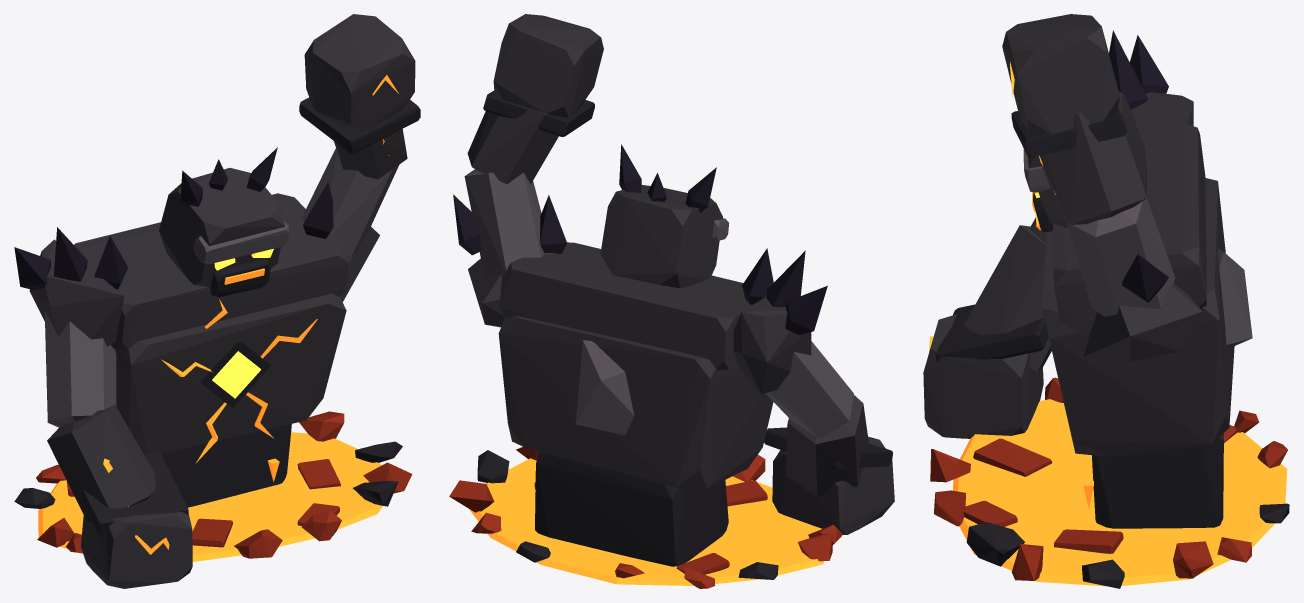
File: Volcano_4_StoneTitan.fbx
The picture shows the model from 3 angles, left to right: view 1: azimuth 30°, elevation 25°; view 2: azimuth 150°, elevation 25°; view 3: azimuth 270°, elevation 25°; orthographic projection. The views are drawn at different scales.
Visible parts, largest first — view 1: Volcano_4_StoneTitan__Volcano_Basalt, Volcano_4_StoneTitan__Volcano_BasaltDark, Volcano_4_StoneTitan__Neon_Volcano_Lava, Volcano_4_StoneTitan__Volcano_BasaltLight, Volcano_4_StoneTitan__Volcano_LavaCrust, Volcano_4_StoneTitan__Volcano_Obsidian, Volcano_4_StoneTitan__Neon_Volcano_LavaHot; view 2: Volcano_4_StoneTitan__Volcano_Basalt, Volcano_4_StoneTitan__Volcano_BasaltDark, Volcano_4_StoneTitan__Volcano_BasaltLight, Volcano_4_StoneTitan__Neon_Volcano_Lava, Volcano_4_StoneTitan__Volcano_Obsidian, Volcano_4_StoneTitan__Volcano_LavaCrust; view 3: Volcano_4_StoneTitan__Volcano_Basalt, Volcano_4_StoneTitan__Neon_Volcano_Lava, Volcano_4_StoneTitan__Volcano_BasaltDark, Volcano_4_StoneTitan__Volcano_LavaCrust, Volcano_4_StoneTitan__Volcano_BasaltLight, Volcano_4_StoneTitan__Volcano_Obsidian.
Part boxes in pixels (x1=…): Volcano_4_StoneTitan__Volcano_Basalt: x1=29, y1=14, x2=415, y2=588; Volcano_4_StoneTitan__Volcano_BasaltDark: x1=14, y1=97, x2=420, y2=535; Volcano_4_StoneTitan__Neon_Volcano_Lava: x1=38, y1=75, x2=398, y2=561; Volcano_4_StoneTitan__Volcano_BasaltLight: x1=44, y1=148, x2=399, y2=427; Volcano_4_StoneTitan__Volcano_LavaCrust: x1=36, y1=411, x2=412, y2=558; Volcano_4_StoneTitan__Volcano_Obsidian: x1=14, y1=147, x2=333, y2=289; Volcano_4_StoneTitan__Neon_Volcano_LavaHot: x1=212, y1=249, x2=273, y2=398; Volcano_4_StoneTitan__Volcano_Basalt: x1=467, y1=14, x2=894, y2=534; Volcano_4_StoneTitan__Volcano_BasaltDark: x1=477, y1=90, x2=892, y2=579; Volcano_4_StoneTitan__Volcano_BasaltLight: x1=464, y1=169, x2=853, y2=438; Volcano_4_StoneTitan__Neon_Volcano_Lava: x1=469, y1=458, x2=824, y2=585; Volcano_4_StoneTitan__Volcano_Obsidian: x1=453, y1=144, x2=827, y2=335; Volcano_4_StoneTitan__Volcano_LavaCrust: x1=449, y1=447, x2=842, y2=588; Volcano_4_StoneTitan__Volcano_Basalt: x1=923, y1=14, x2=1234, y2=456; Volcano_4_StoneTitan__Neon_Volcano_Lava: x1=929, y1=62, x2=1287, y2=586; Volcano_4_StoneTitan__Volcano_BasaltDark: x1=935, y1=108, x2=1289, y2=588; Volcano_4_StoneTitan__Volcano_LavaCrust: x1=930, y1=377, x2=1287, y2=580; Volcano_4_StoneTitan__Volcano_BasaltLight: x1=1023, y1=149, x2=1252, y2=348; Volcano_4_StoneTitan__Volcano_Obsidian: x1=1109, y1=30, x2=1168, y2=302.
Size of the model in its own units: 61.58 by 71.36 by 43.45.
